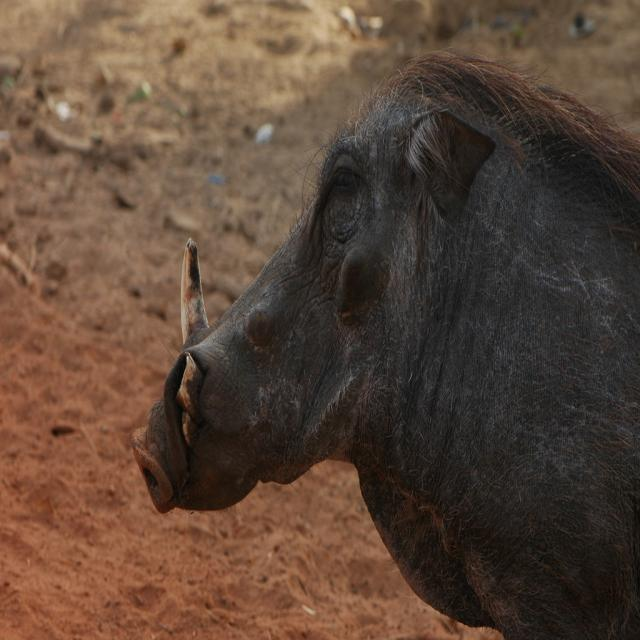Pig: (131, 39, 640, 640)
